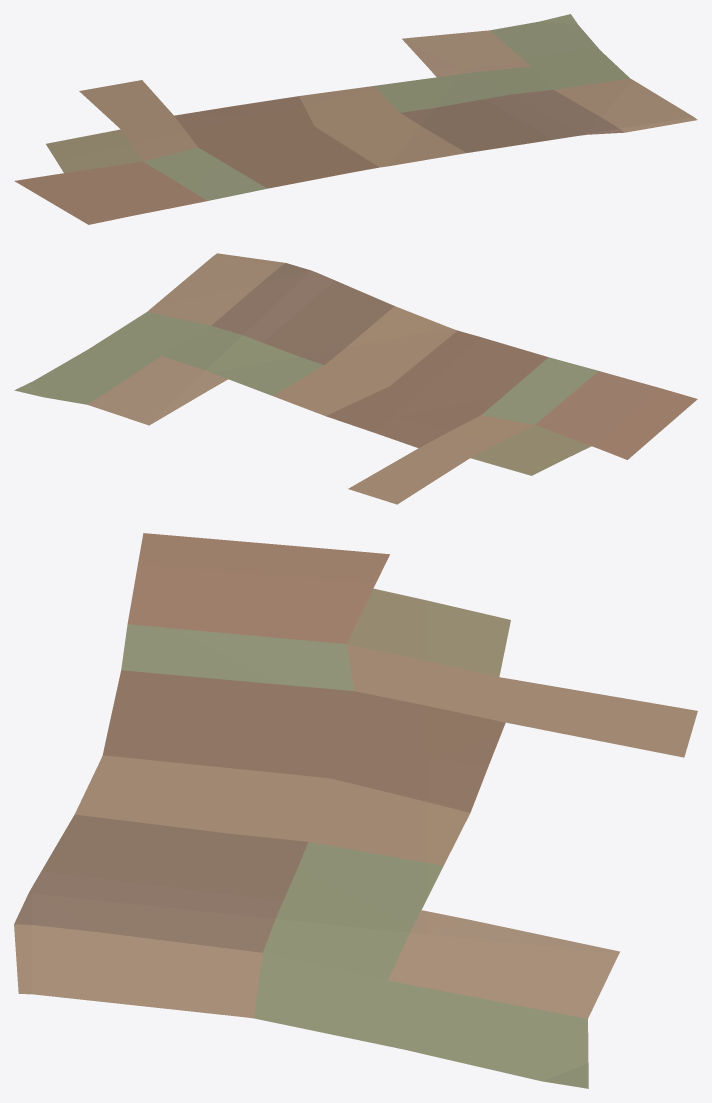
Rendered from farm_-52_-43_soil.glb.
The picture shows the model from 3 angles, top to bottom: view 1: azimuth 30°, elevation 25°; view 2: azimuth 150°, elevation 25°; view 3: azimuth 270°, elevation 25°; orthographic projection. The views are drawn at different scales.
Parts seen in each view (by area): view 1: geometry_0; view 2: geometry_0; view 3: geometry_0.
Boxes of the visible parts, bbox=[...] form: geometry_0: bbox=[14, 14, 697, 224]; geometry_0: bbox=[14, 253, 697, 504]; geometry_0: bbox=[14, 533, 697, 1088].
Size of the model in its own units: 235 by 15.98 by 139.
